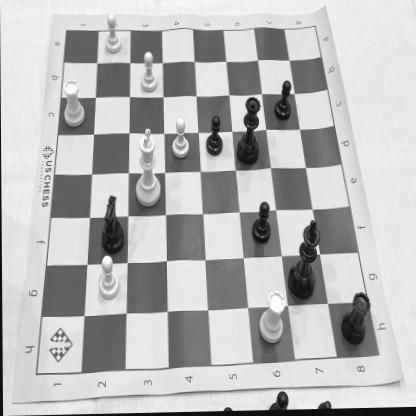black-king: (286, 217, 322, 304)
black-pawn: (249, 201, 272, 249), (204, 116, 225, 158), (273, 80, 293, 124)
black-queen: (234, 94, 264, 169)
black-rook: (339, 290, 370, 348), (98, 194, 126, 254)
white-king: (132, 128, 164, 210)
white-pawn: (95, 255, 120, 301), (138, 51, 160, 97), (169, 115, 190, 162), (101, 12, 122, 56)
white-rook: (256, 290, 286, 350), (58, 77, 86, 130)
